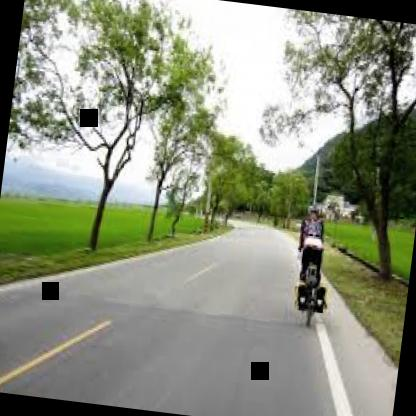car: (274, 192, 343, 334)
